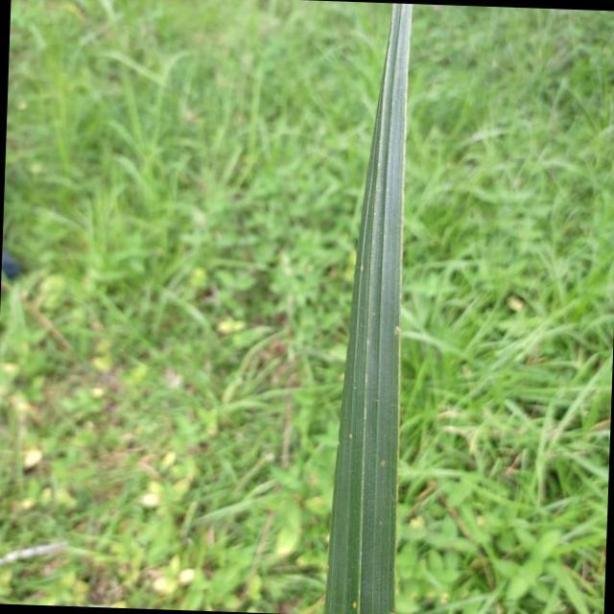Boron: (323, 0, 413, 614)
